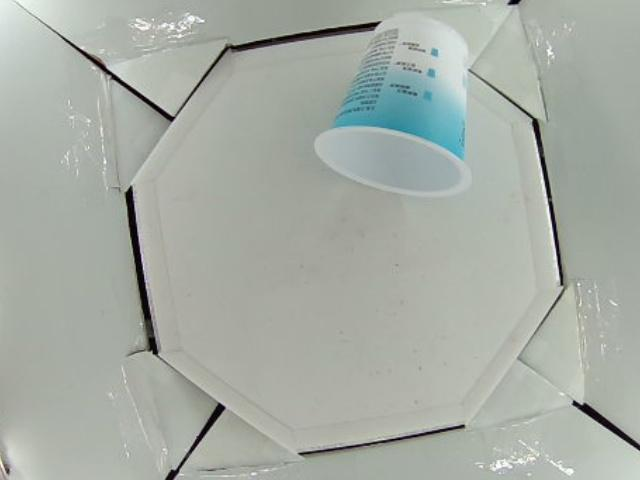Cup: (314, 11, 473, 201)
